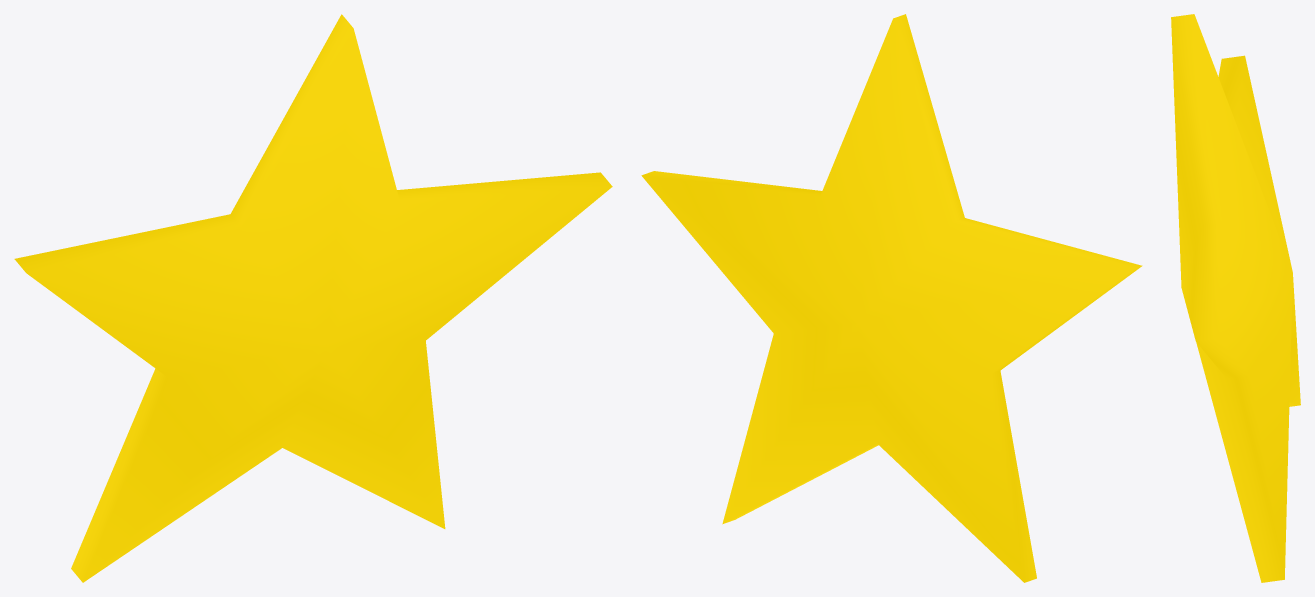
Rendered from yellow-glowing-star.glb.
3 renders of one model, left to right at view 1: azimuth 30°, elevation 25°; view 2: azimuth 150°, elevation 25°; view 3: azimuth 270°, elevation 25°, orthographic. The views are drawn at different scales.
Visible parts, largest first — view 1: Circle; view 2: Circle; view 3: Circle.
Boxes of the visible parts, left/top/right/bottom form: Circle: left=14, top=14, right=612, bottom=582; Circle: left=641, top=14, right=1142, bottom=582; Circle: left=1171, top=14, right=1300, bottom=582.
Size of the model in its own units: 1.9 by 1.83 by 0.4241.
